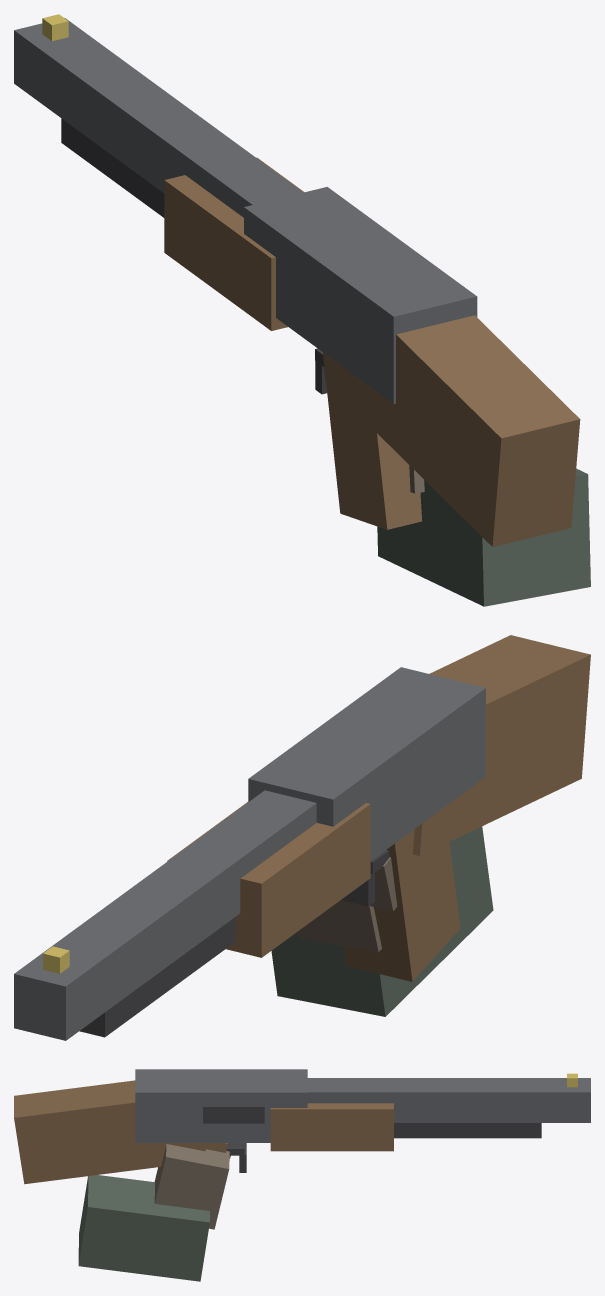
The model's file is weapon_shotgun.glb.
3 renders of one model, top to bottom at view 1: azimuth 30°, elevation 25°; view 2: azimuth 150°, elevation 25°; view 3: azimuth 270°, elevation 25°, orthographic. The views are drawn at different scales.
Parts seen in each view (by area): view 1: weapon_shotgun_root; view 2: weapon_shotgun_root; view 3: weapon_shotgun_root.
Part boxes in pixels (x1,y1,x2,y2): weapon_shotgun_root: (14, 14, 590, 606); weapon_shotgun_root: (14, 635, 590, 1040); weapon_shotgun_root: (14, 1069, 590, 1281).
Bounding box in the file's own units: 0.1703 × 0.3153 × 0.9369.
